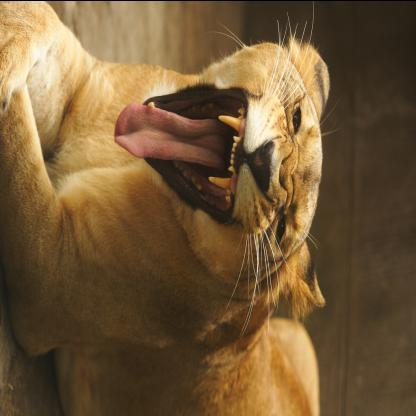lion: (113, 25, 354, 323)
